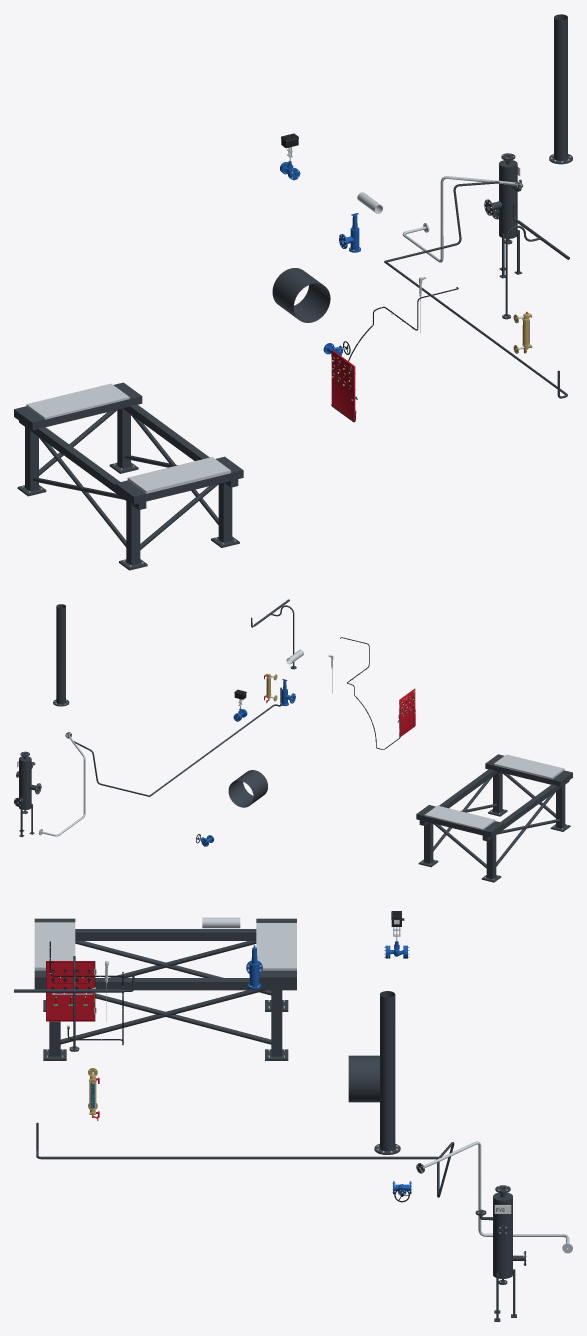
3 views of the same model, one above another, from view 1: azimuth 30°, elevation 25°; view 2: azimuth 150°, elevation 25°; view 3: azimuth 270°, elevation 25° (orthographic). The views are drawn at different scales.
Parts seen in each view (by area): view 1: deaerator_support / dark, deaerator_support / steel, flue_spacer / dark, bdv_vent / dark, separator_fv8 / dark, cabinet_door / cabinet_door_5.npz, trap_gap_to_bdv / steel, tds_common / dark, pressure_header / dark; view 2: deaerator_support / dark, deaerator_support / steel, separator_fv8 / dark, bdv_vent / dark, flue_spacer / dark, cabinet_door / cabinet_door_5.npz, trap_gap_to_bdv / steel, tds_common / dark; view 3: deaerator_support / dark, deaerator_support / steel, cabinet_door / cabinet_door_5.npz, bdv_vent / dark, separator_fv8 / dark, tds_common / dark, flue_spacer / dark, trap_gap_to_bdv / steel, pressure_header / dark.
Boxes of the visible parts, box(x1,y1,x2,y2) form: deaerator_support / dark: box(14, 382, 243, 570); deaerator_support / steel: box(22, 383, 235, 566); flue_spacer / dark: box(272, 268, 330, 322); bdv_vent / dark: box(549, 14, 572, 164); separator_fv8 / dark: box(484, 153, 523, 278); cabinet_door / cabinet_door_5.npz: box(331, 350, 355, 421); trap_gap_to_bdv / steel: box(402, 176, 521, 262); tds_common / dark: box(384, 260, 567, 398); pressure_header / dark: box(502, 204, 569, 319); deaerator_support / dark: box(416, 754, 572, 882); deaerator_support / steel: box(421, 754, 567, 879); separator_fv8 / dark: box(14, 751, 41, 837); bdv_vent / dark: box(53, 604, 69, 706); flue_spacer / dark: box(228, 770, 267, 807); cabinet_door / cabinet_door_5.npz: box(399, 688, 415, 737); trap_gap_to_bdv / steel: box(39, 732, 85, 836); tds_common / dark: box(149, 687, 281, 796); deaerator_support / dark: box(34, 918, 296, 1060); deaerator_support / steel: box(34, 922, 296, 1057); cabinet_door / cabinet_door_5.npz: box(46, 961, 96, 1021); bdv_vent / dark: box(374, 991, 400, 1154); separator_fv8 / dark: box(475, 1185, 525, 1321); tds_common / dark: box(36, 1122, 437, 1159); flue_spacer / dark: box(348, 1055, 379, 1102); trap_gap_to_bdv / steel: box(416, 1141, 572, 1253); pressure_header / dark: box(14, 956, 134, 1051).
Bounding box in the file's own units: 8.21 × 3.85 × 6.05.
